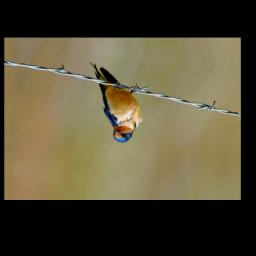Swallow: (76, 62, 153, 146)
